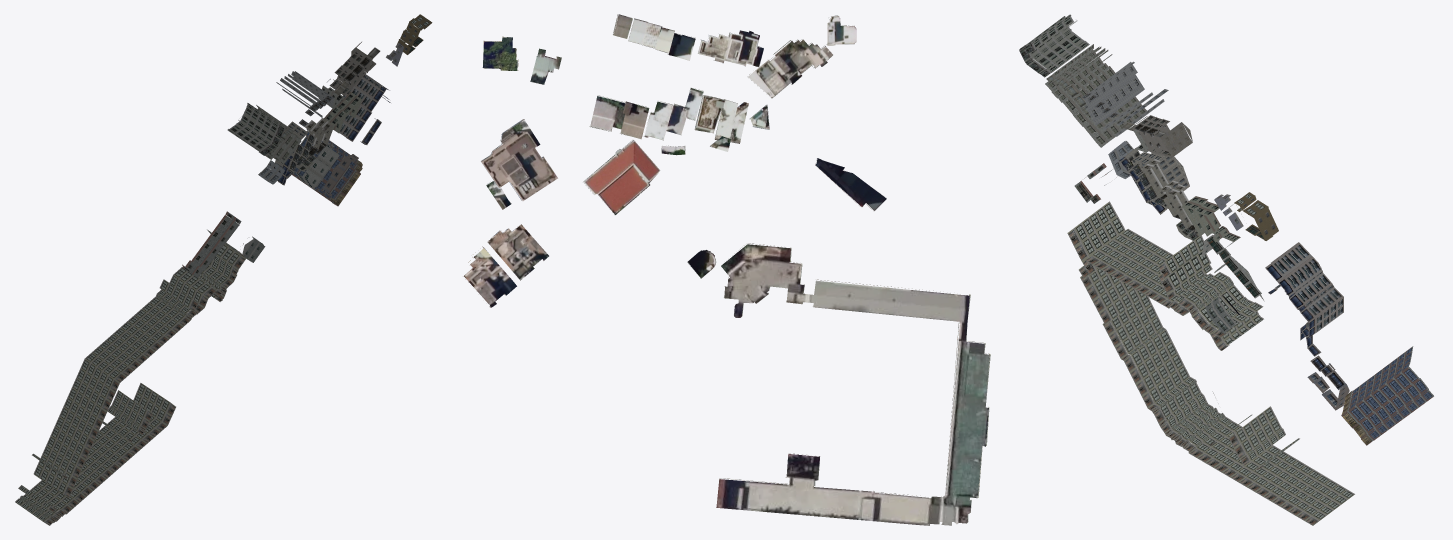
File: tile_LOD4_r15_c0.glb
3 renders of one model, left to right at view 1: azimuth 30°, elevation 25°; view 2: azimuth 150°, elevation 25°; view 3: azimuth 270°, elevation 25°, orthographic. The views are drawn at different scales.
Bounding box in the file's own units: 227 × 203 × 149.
96 materials, 96 textured.
